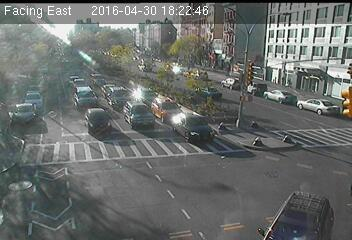neg: (250, 132, 262, 149)
